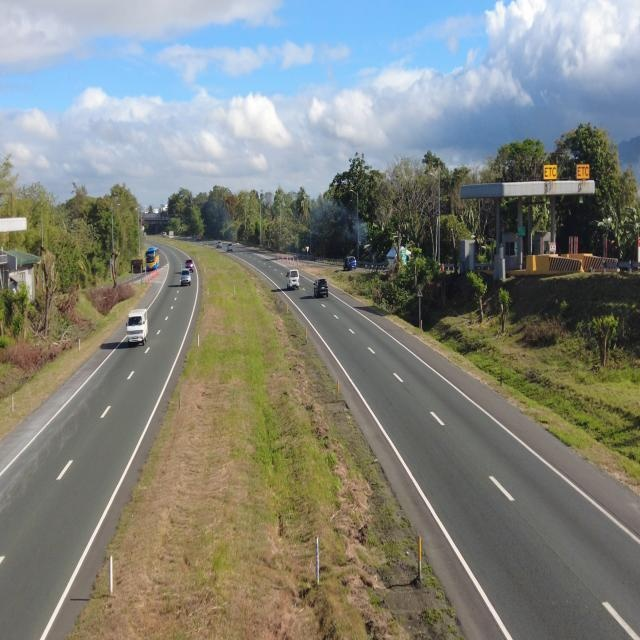Bus: (142, 246, 161, 274)
Van: (286, 266, 301, 290)
